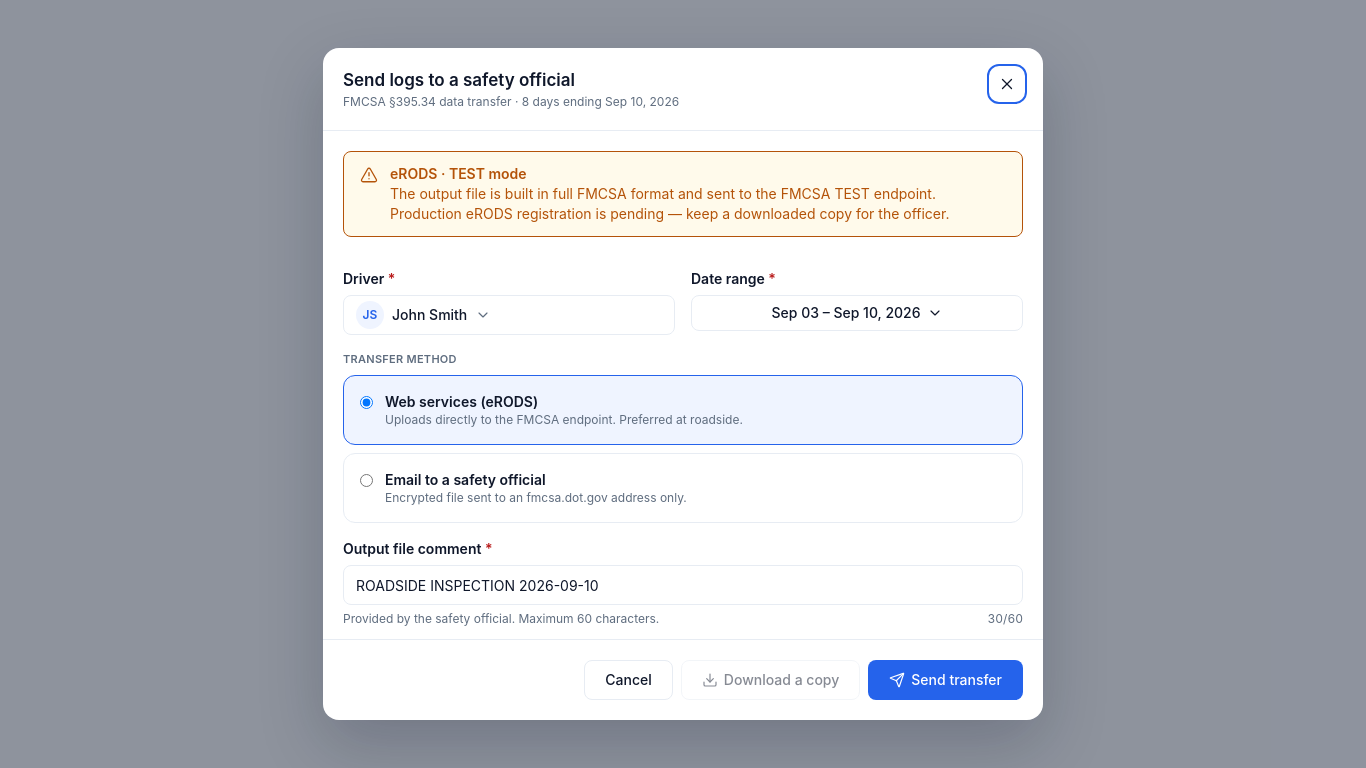
Scenario: 11.14 Send logs to a safety official › shows the UNRESOLVED_UNIDENTIFIED refusal verbatim
The image size is (1366, 768).
Click the button "Send transfer" at (946, 680), box [868,660,1023,700]
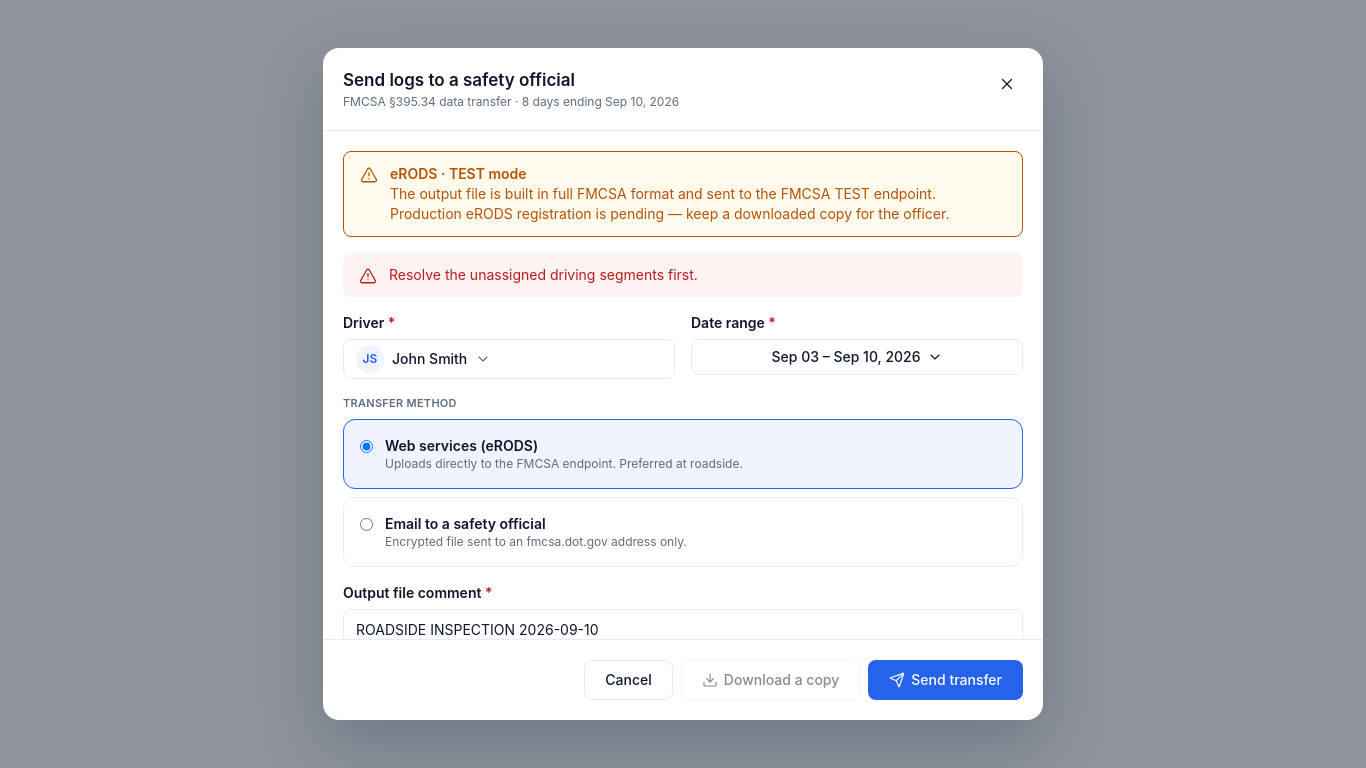
Check: the text "Resolve the unassigned driving segments first." is shown, box [389,266,698,283]
